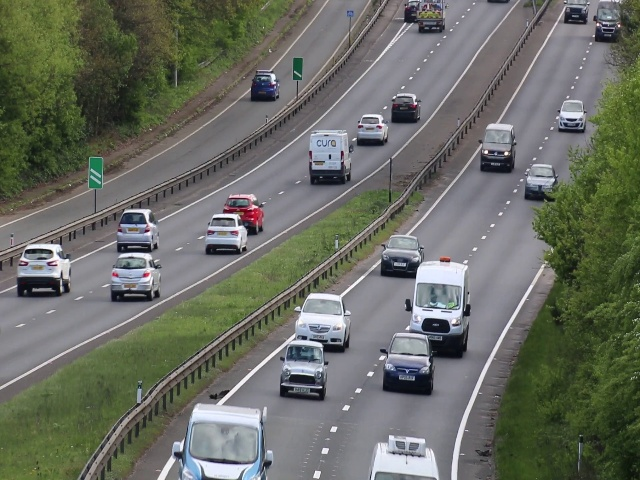car: (408, 258, 472, 358), (176, 407, 263, 480), (295, 288, 352, 352), (384, 328, 434, 396), (17, 242, 73, 294), (281, 341, 326, 402), (307, 126, 354, 181), (108, 253, 161, 300), (479, 119, 515, 177), (116, 208, 160, 251), (381, 232, 423, 277), (224, 191, 265, 233), (204, 214, 246, 255), (524, 160, 555, 206), (591, 1, 623, 44), (388, 93, 422, 125), (357, 111, 389, 145), (558, 99, 589, 132), (248, 69, 280, 100), (416, 1, 447, 32)
